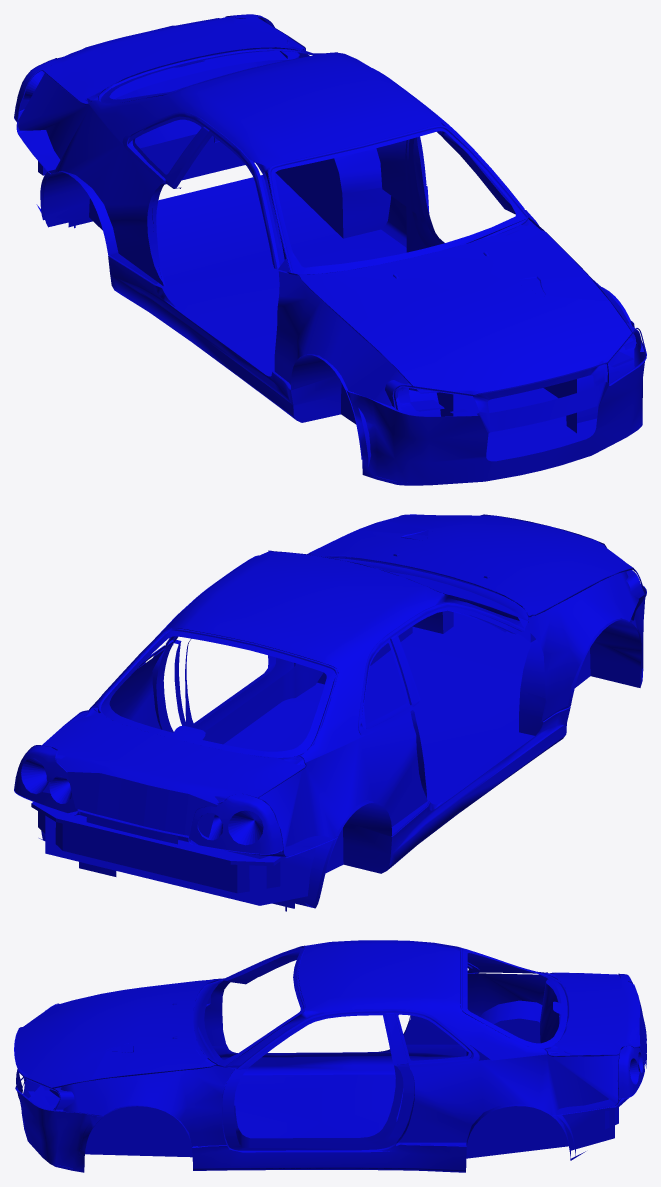
The model's file is NissanLod_base.fbx.
3 views of the same model, one above another, from view 1: azimuth 30°, elevation 25°; view 2: azimuth 150°, elevation 25°; view 3: azimuth 270°, elevation 25° (orthographic). The views are drawn at different scales.
Visible parts, largest first — view 1: nissan:polySurface19; view 2: nissan:polySurface19; view 3: nissan:polySurface19.
Boxes of the visible parts, box(x1,y1,x2,y2) form: nissan:polySurface19: box(14, 14, 646, 485); nissan:polySurface19: box(14, 514, 646, 911); nissan:polySurface19: box(14, 940, 646, 1172).
Bounding box in the file's own units: 184 × 126 × 462.
